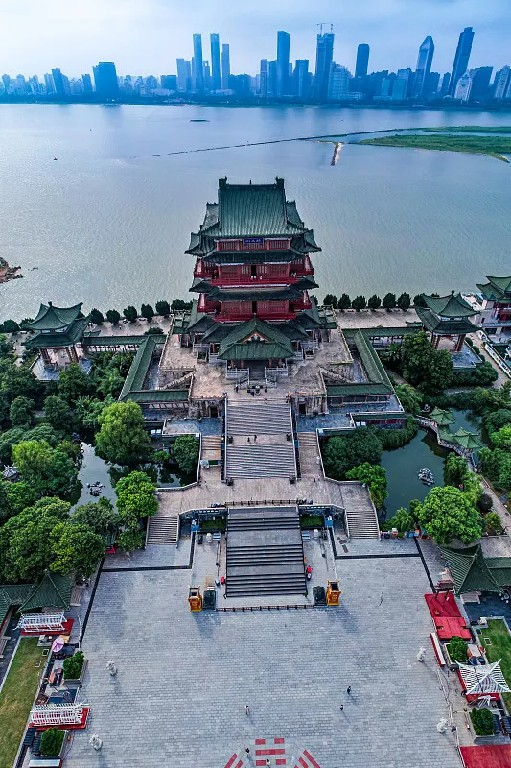Teng: (170, 177, 339, 368)
